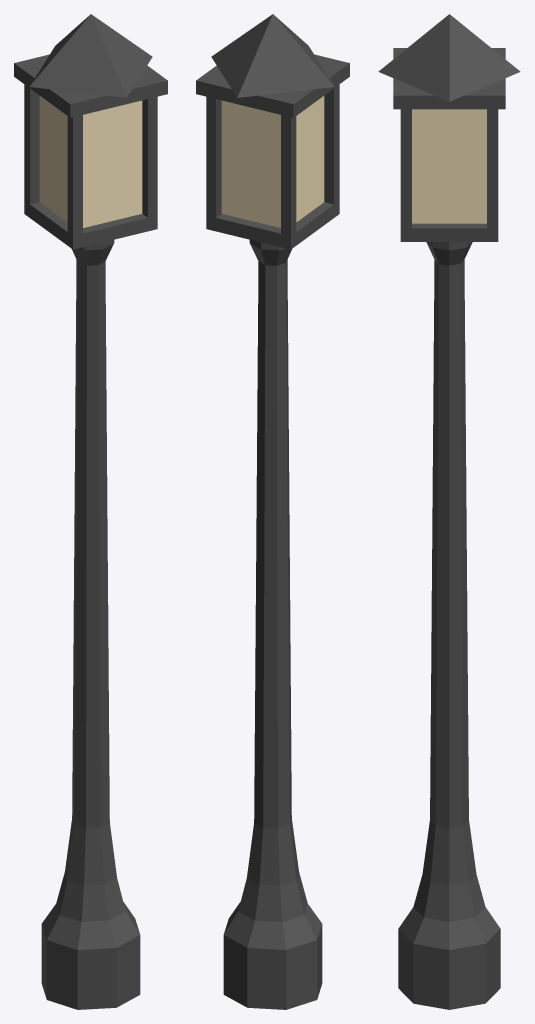
Rendered from SM_BM_BP_LanternPost.glb.
3 views of the same model, side by side, from view 1: azimuth 30°, elevation 25°; view 2: azimuth 150°, elevation 25°; view 3: azimuth 270°, elevation 25° (orthographic).
Parts seen in each view (by area): view 1: SM_BM_BP_LanternPost; view 2: SM_BM_BP_LanternPost; view 3: SM_BM_BP_LanternPost.
Part boxes in pixels (x1,y1,x2,y2): SM_BM_BP_LanternPost: (14,14,167,1009); SM_BM_BP_LanternPost: (196,14,349,1009); SM_BM_BP_LanternPost: (378,14,520,1009).
Bounding box in the file's own units: 0.475 × 3.58 × 0.475.
